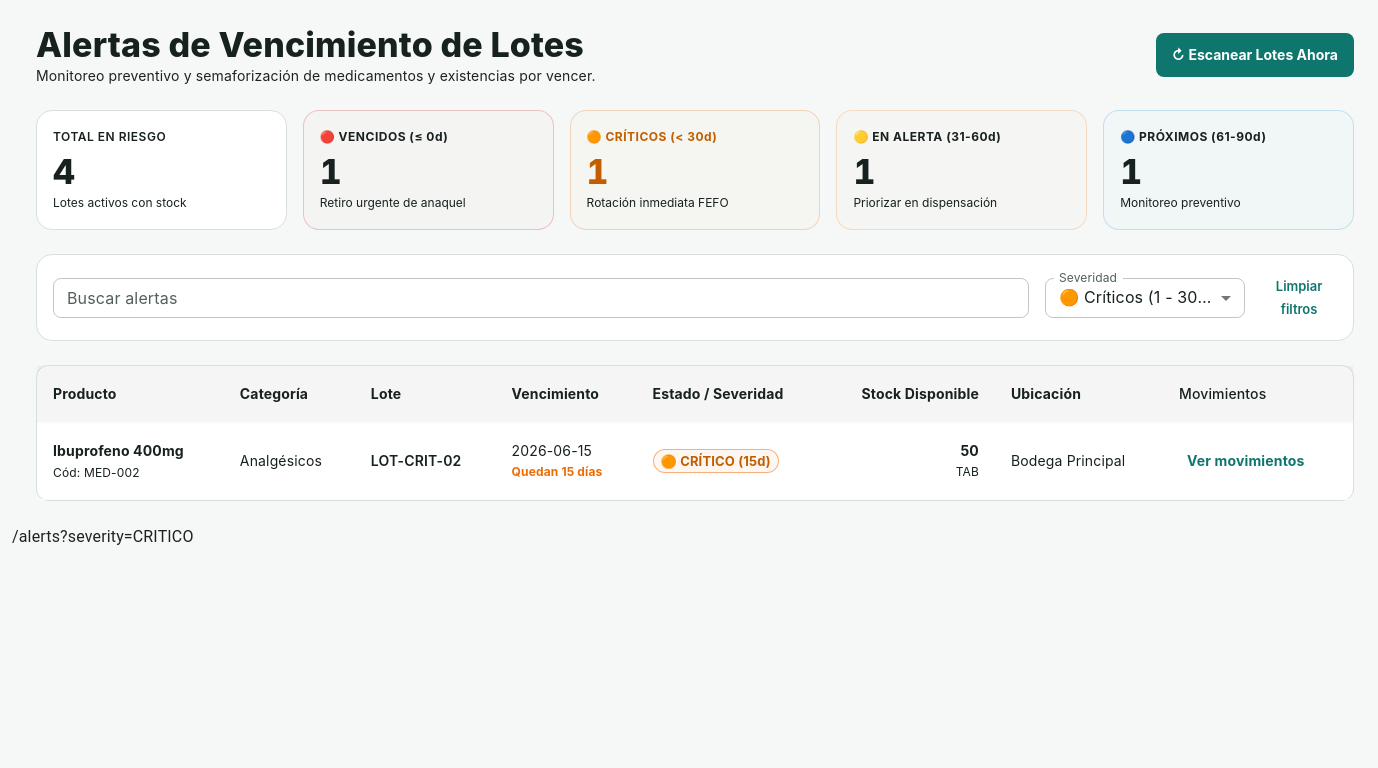
it: ExpirationAlertsPage (UX-14 — Alertas de Vencimiento) › abre CRITICO desde URL, filtra filas, enlaza movimientos y limpia la severidad
Expected: the text "LOT-CRIT-02" is shown, [371,452,461,469]
Expected: the text "LOT-VENC-01" is not shown
Click the button "Limpiar filtros" at (1299, 298), box [1261,271,1337,324]
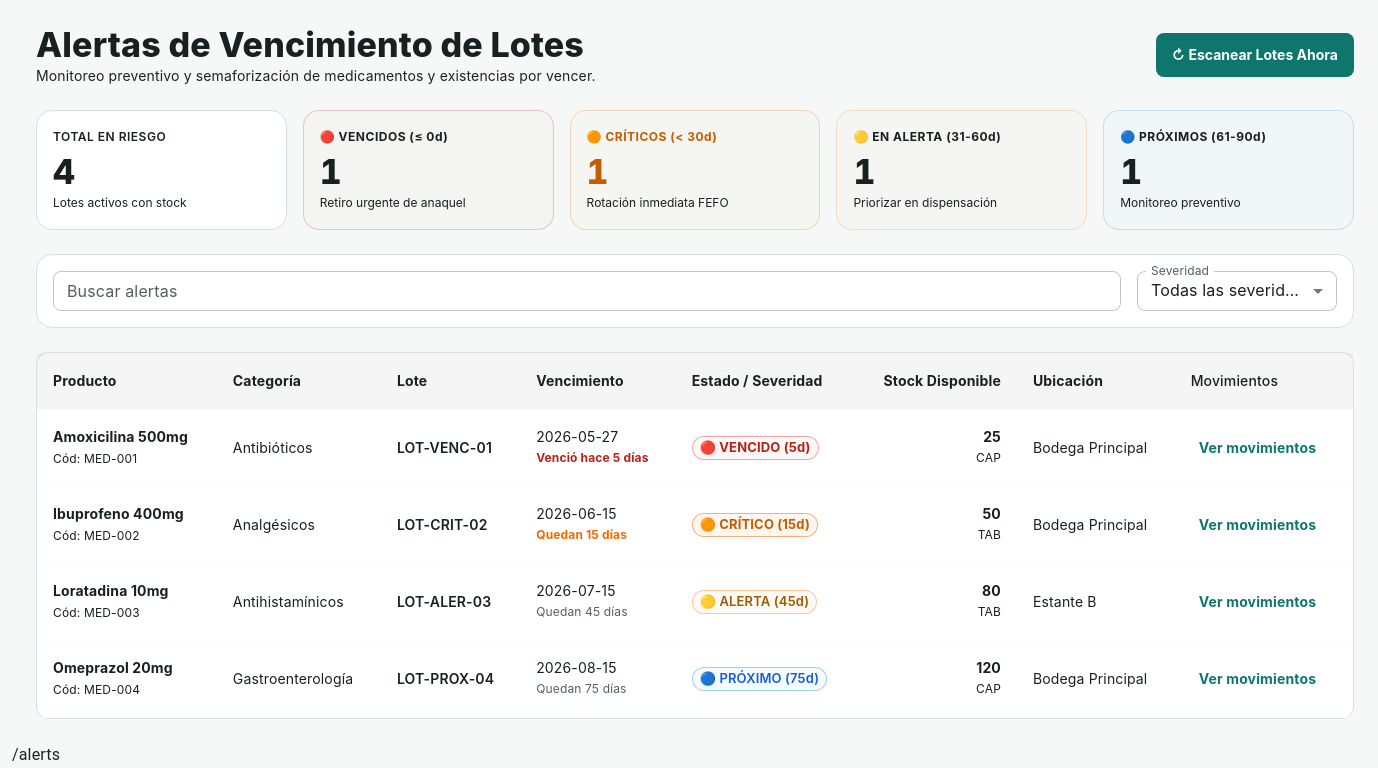
Now the text named "Ubicación" reads "/alerts", box [12,745,60,764]
Now the text named "Ubicación" no longer shows "severity", box [12,745,60,764]
Now the text "LOT-VENC-01" is shown, box [397,438,504,458]
